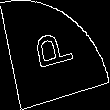P_W: (31, 31, 79, 79)
